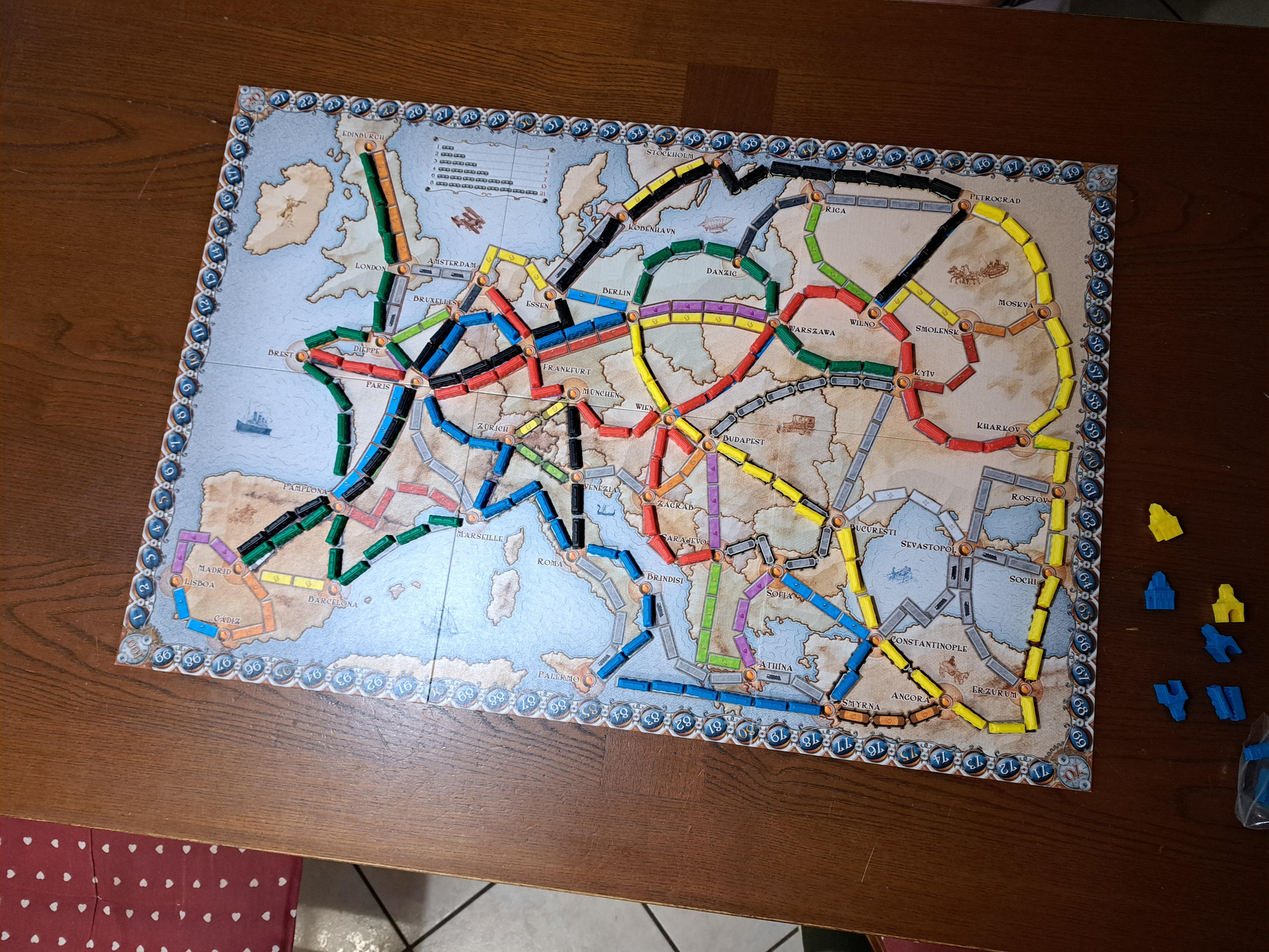corner_bl: (115, 630, 154, 668)
corner_br: (1055, 753, 1093, 791)
corner_tl: (234, 85, 269, 115)
corner_tr: (1084, 162, 1118, 195)
